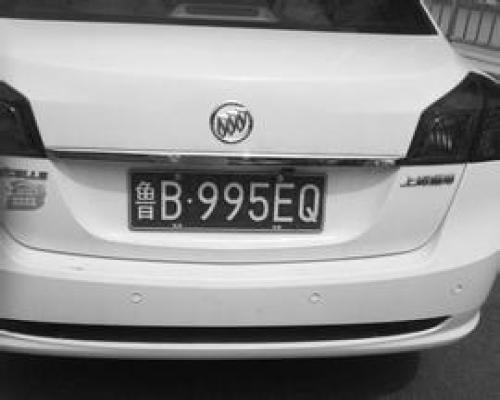Carplate: (115, 160, 331, 242)
